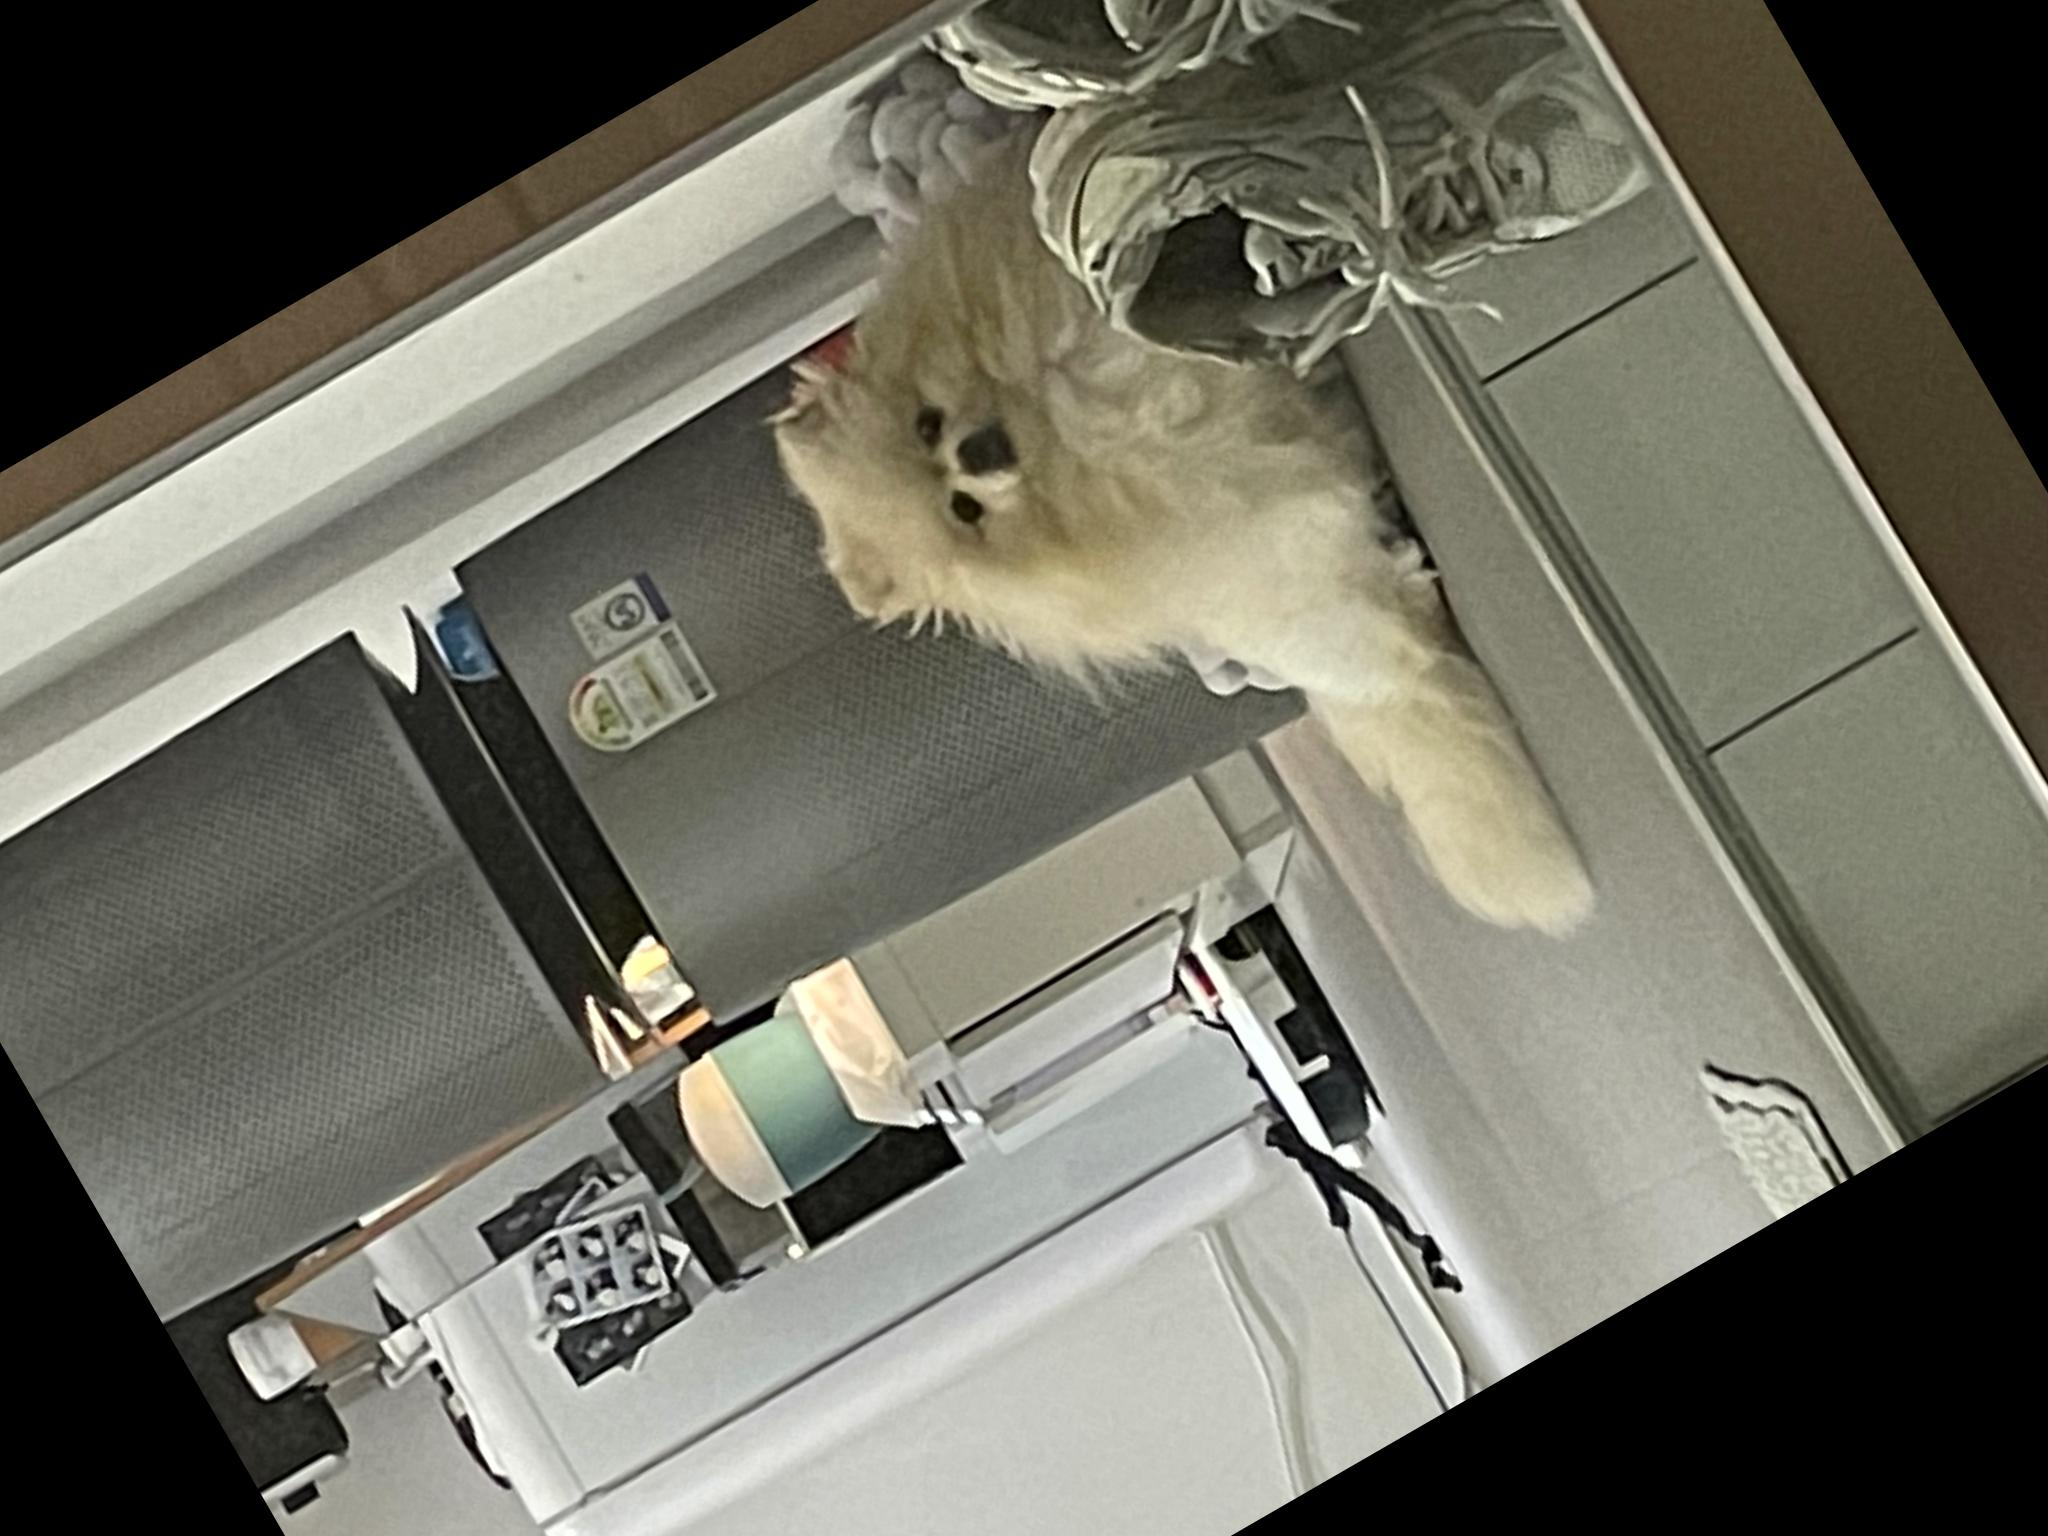dog: (526, 758, 1672, 1536)
